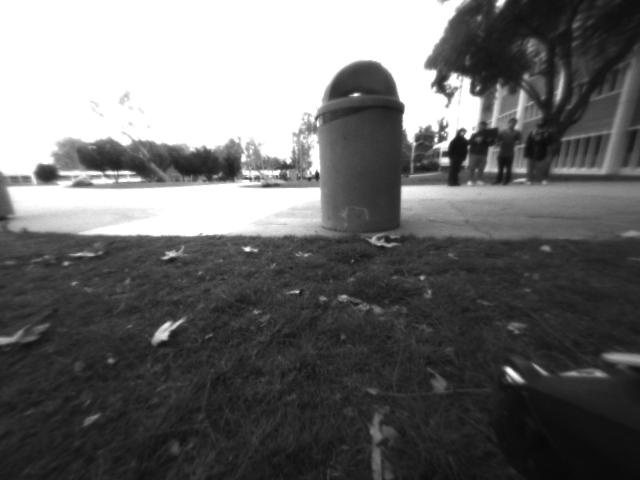trashcan: (312, 56, 412, 234)
